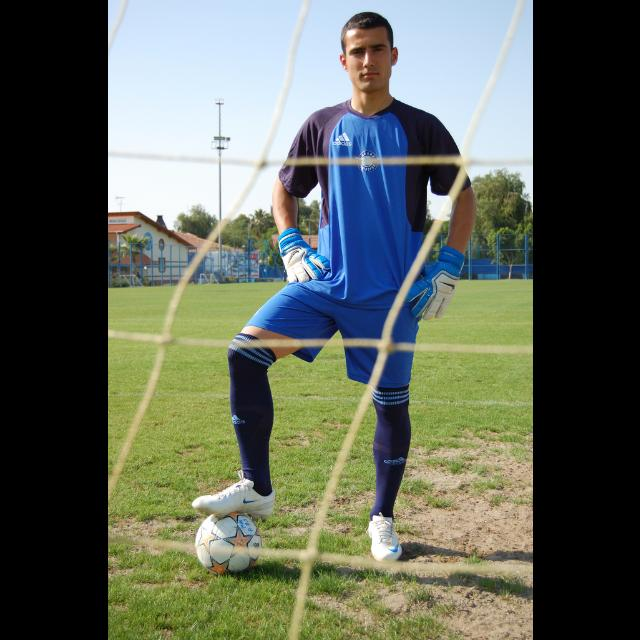Football: (194, 509, 260, 571)
